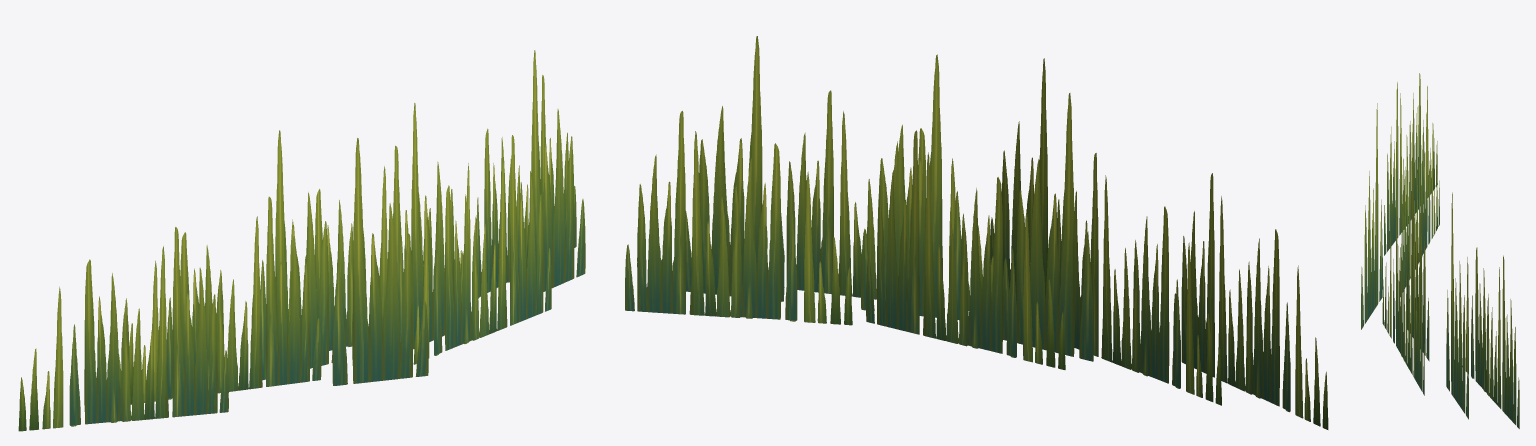
File: GrassLine.fbx
3 renders of one model, left to right at view 1: azimuth 30°, elevation 25°; view 2: azimuth 150°, elevation 25°; view 3: azimuth 270°, elevation 25°, orthographic. The views are drawn at different scales.
Parts seen in each view (by area): view 1: pPlane66, pPlane64, pPlane65, pPlane71, pPlane70, pPlane68, pPlane63, pPlane67, pPlane69; view 2: pPlane67, pPlane63, pPlane66, pPlane64, pPlane65, pPlane68, pPlane70, pPlane69, pPlane71; view 3: pPlane67, pPlane66, pPlane65, pPlane64, pPlane70, pPlane71, pPlane69.
Part boxes in pixels (x1,y1,x2,y2): pPlane66: (18,227,228,431); pPlane64: (119,196,321,404); pPlane65: (400,135,551,364); pPlane71: (332,138,428,385); pPlane70: (517,50,585,291); pPlane68: (260,130,332,380); pPlane63: (288,145,432,350); pPlane67: (444,75,576,298); pPlane69: (398,103,463,349); pPlane67: (625,111,852,325); pPlane63: (866,130,1065,369); pPlane66: (1173,173,1328,429); pPlane64: (1074,153,1221,405); pPlane65: (784,90,993,310); pPlane68: (1003,93,1093,361); pPlane70: (685,36,784,301); pPlane69: (861,54,961,319); pPlane71: (990,58,1061,304); pPlane67: (1458,247,1519,428); pPlane66: (1384,73,1437,255); pPlane65: (1382,212,1424,395); pPlane64: (1400,112,1439,296); pPlane70: (1446,192,1468,419); pPlane71: (1361,103,1382,329); pPlane69: (1407,135,1429,361).
Size of the model in its own units: 3.14 by 1.26 by 0.8649.
